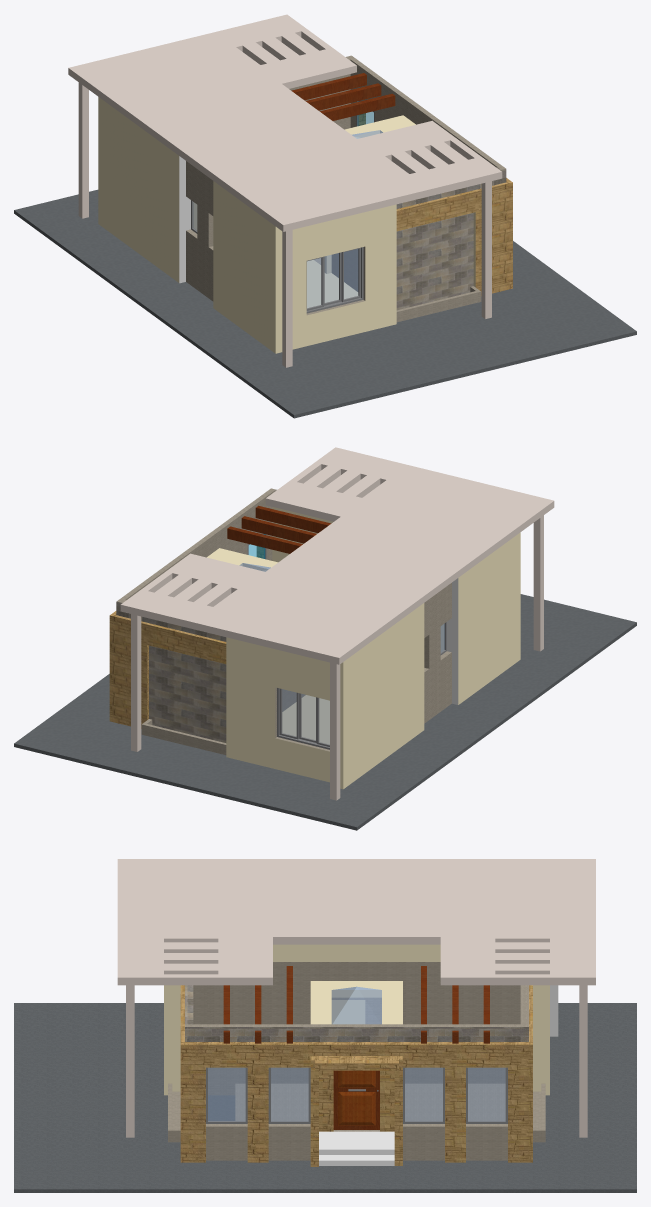
3 renders of one model, top to bottom at view 1: azimuth 30°, elevation 25°; view 2: azimuth 150°, elevation 25°; view 3: azimuth 270°, elevation 25°, orthographic. The views are drawn at different scales.
Visible parts, largest first — view 1: 57602, 61533, 61659, Component#1 (×3), Component#6, Component#3 (×3), 60654, 59317; view 2: 57602, 61533, 61659, Component#1 (×3), Component#3 (×3), Component#6, 60765, 59317; view 3: 57602, 61659, 61533, Component#2 (×4), Component#7, Component#1 (×2), 59317, 58845, 60820, 58681, 60765, 60654 (+1 smaller).
Boxes of the visible parts, x1,y1,x2,y2 form: 57602: (98,55,512,353); 61533: (68,14,502,231); 61659: (14,189,636,418); Component#1 (×3): (78,82,491,367); Component#6: (306,247,363,313); Component#3 (×3): (291,73,395,120); 60654: (396,286,481,322); 59317: (345,115,415,138); 57602: (109,488,520,789); 61533: (120,447,554,664); 61659: (14,594,636,830); Component#1 (×3): (131,515,543,800); Component#3 (×3): (227,505,331,553); Component#6: (277,688,329,749); 60765: (141,719,226,754); 59317: (207,548,277,571); 57602: (164,944,558,1166); 61659: (14,1003,636,1192); 61533: (117,859,595,985); Component#2 (×4): (206,1067,507,1123); Component#7: (333,1070,379,1129); Component#1 (×2): (126,985,587,1137); 59317: (310,981,402,1024); 58845: (319,1131,394,1165); 60820: (331,986,381,1024); 58681: (315,1056,398,1070); 60765: (533,1083,545,1142); 60654: (168,1083,180,1142).
Bounding box in the file's own units: 10.5 × 4.4 × 14.85.
Materials: 610 (263 with a texture image).
